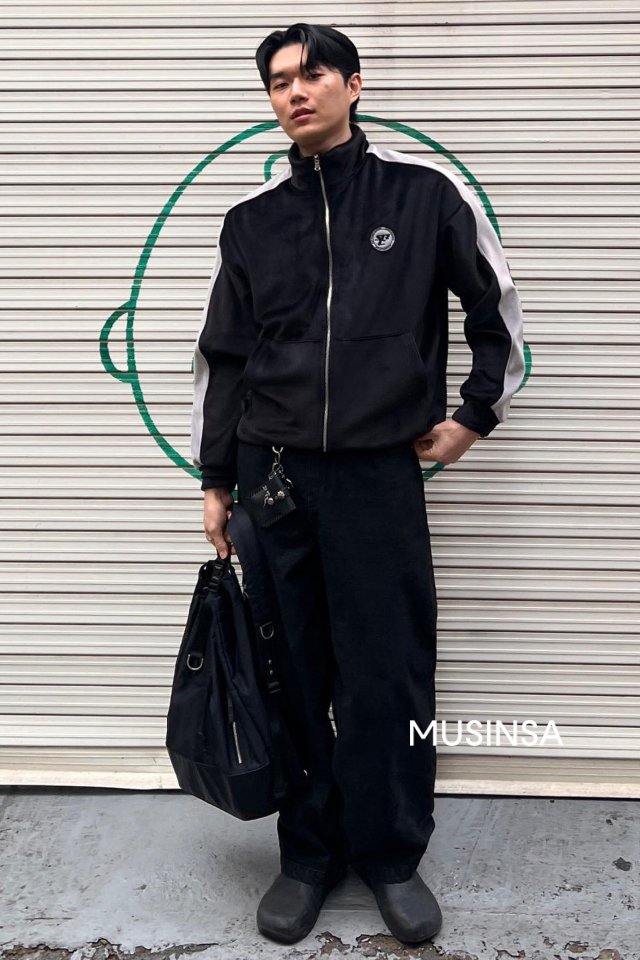Bag: (156, 554, 308, 821)
Outer: (187, 128, 525, 480)
Pants: (230, 434, 450, 887)
Shoes: (248, 863, 450, 945)
